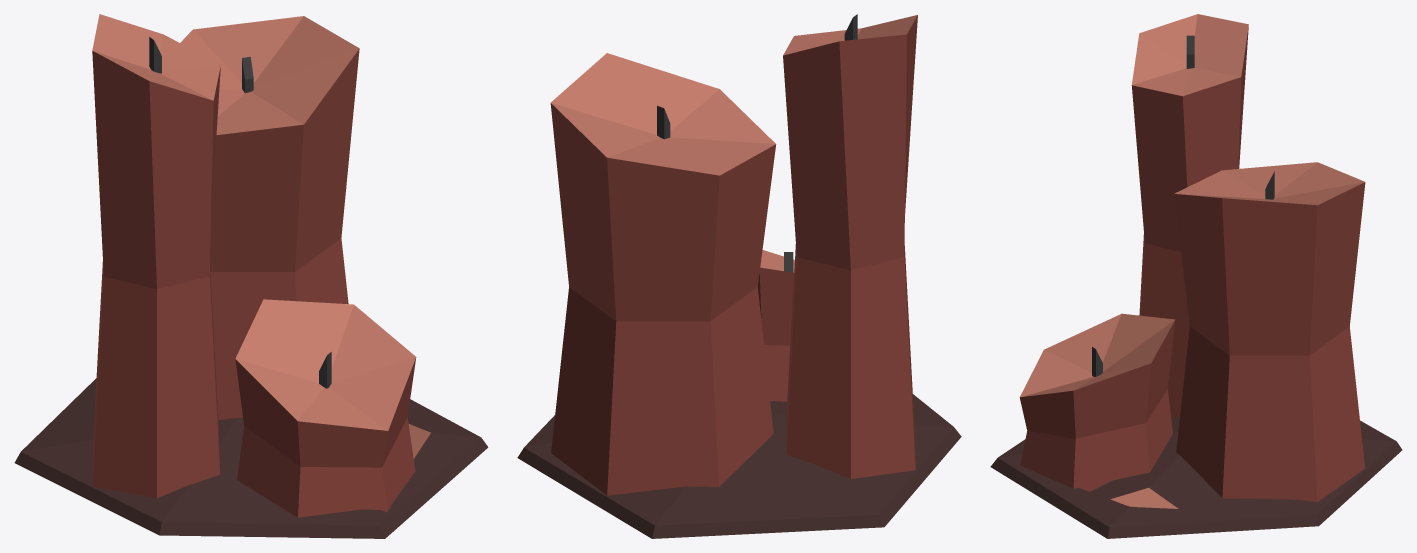
The model's file is Candle_4_Red.fbx.
3 views of the same model, side by side, from view 1: azimuth 30°, elevation 25°; view 2: azimuth 150°, elevation 25°; view 3: azimuth 270°, elevation 25° (orthographic). The views are drawn at different scales.
Parts seen in each view (by area): view 1: Candle_4_Red_Part_1, Candle_4_Red_Part_2, Candle_4_Red_Part_3, Candle_4_Red_Part_4; view 2: Candle_4_Red_Part_1, Candle_4_Red_Part_3, Candle_4_Red_Part_2, Candle_4_Red_Part_4; view 3: Candle_4_Red_Part_1, Candle_4_Red_Part_2, Candle_4_Red_Part_3, Candle_4_Red_Part_4.
Part boxes in pixels (left/top/right/bottom): Candle_4_Red_Part_1: left=92, top=49, right=416, bottom=517; Candle_4_Red_Part_2: left=92, top=14, right=430, bottom=458; Candle_4_Red_Part_3: left=14, top=378, right=488, bottom=538; Candle_4_Red_Part_4: left=149, top=37, right=331, bottom=388; Candle_4_Red_Part_1: left=550, top=15, right=917, bottom=495; Candle_4_Red_Part_3: left=517, top=394, right=961, bottom=538; Candle_4_Red_Part_2: left=550, top=15, right=917, bottom=272; Candle_4_Red_Part_4: left=657, top=14, right=857, bottom=272; Candle_4_Red_Part_1: left=1019, top=27, right=1365, bottom=502; Candle_4_Red_Part_2: left=1020, top=14, right=1364, bottom=508; Candle_4_Red_Part_3: left=990, top=417, right=1402, bottom=538; Candle_4_Red_Part_4: left=1092, top=35, right=1274, bottom=376.
Size of the model in its own units: 23.17 by 26.7 by 25.86.
